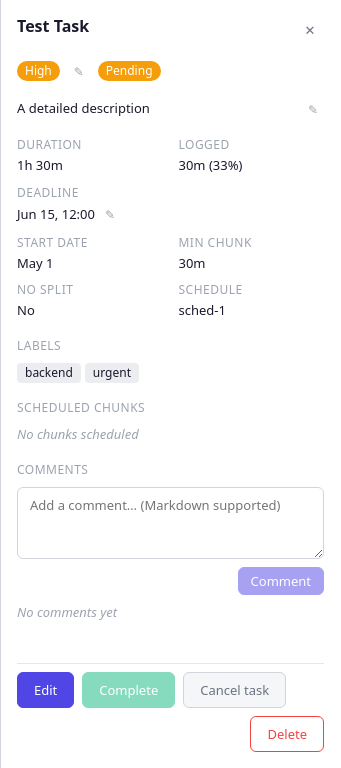
Scenario: TaskDetail — inline quick-edit › patches priority, closes the editor, and reloads chunks
Click the button named "Edit priority": (79, 71) x1=68 y1=60 x2=90 y2=82
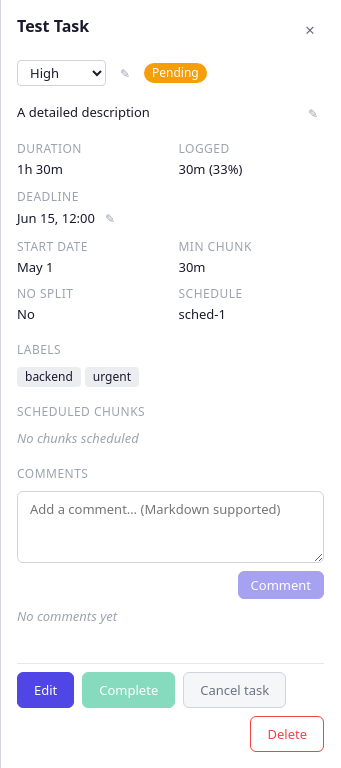
Select "Low" in the dropdown named "Priority": (62, 73) x1=17 y1=60 x2=106 y2=86
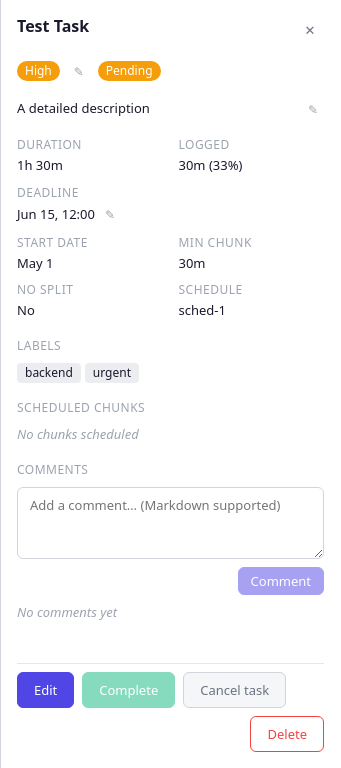
Now the dropdown labelled "Priority" is gone
